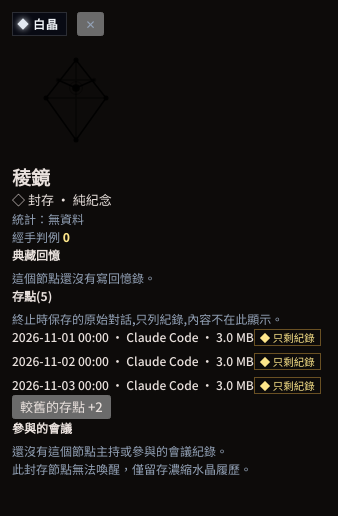
Test: 履歷欄存點(DESIGN.md 6.6.5) › 預設 3 份,較舊的收合後可展開
Check: the number of list items is 3, box left=12, top=326, right=321, bottom=346; left=12, top=350, right=321, bottom=370; left=12, top=374, right=321, bottom=394
Click the button "較舊的存點 +2" at (61, 406), box left=12, top=394, right=111, bottom=418
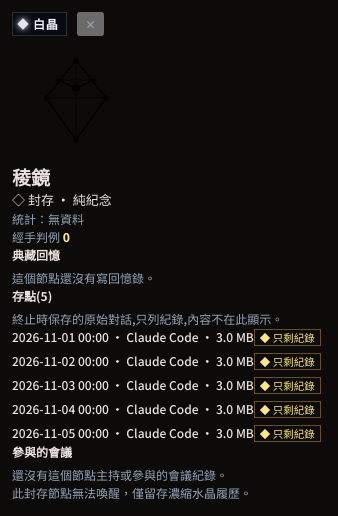
Check: the number of list items is 5, box left=12, top=326, right=321, bottom=346; left=12, top=350, right=321, bottom=370; left=12, top=374, right=321, bottom=394; left=12, top=398, right=321, bottom=418; left=12, top=422, right=321, bottom=442
